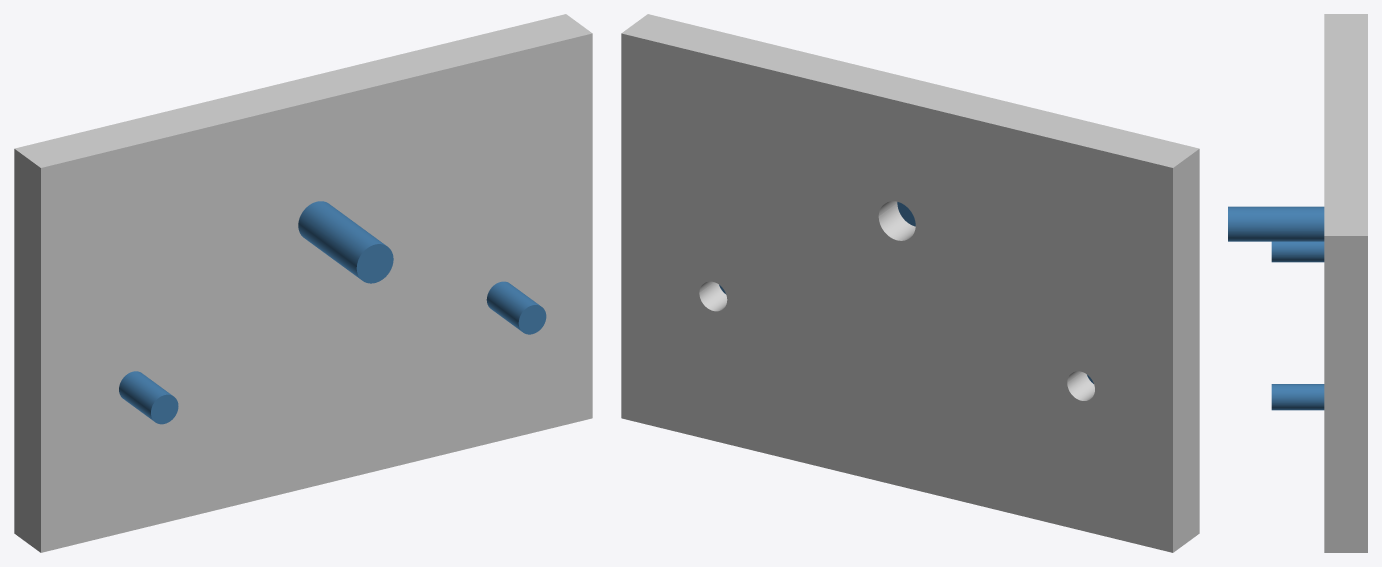
Rendered from .fixture.step.glb.
The picture shows the model from 3 angles, left to right: view 1: azimuth 30°, elevation 25°; view 2: azimuth 150°, elevation 25°; view 3: azimuth 270°, elevation 25°; orthographic projection. The views are drawn at different scales.
Visible parts, largest first — view 1: o1.1, o1.4, o1.3, o1.2; view 2: o1.1; view 3: o1.1, o1.4, o1.3, o1.2.
Part boxes in pixels (x1,y1,x2,y2): o1.1: [14, 14, 592, 552]; o1.4: [298, 201, 393, 283]; o1.3: [486, 281, 546, 334]; o1.2: [119, 371, 178, 424]; o1.1: [621, 14, 1199, 552]; o1.1: [1324, 14, 1367, 552]; o1.4: [1228, 206, 1324, 241]; o1.3: [1271, 384, 1324, 410]; o1.2: [1271, 241, 1324, 262].
Bounding box in the file's own units: 0.12 × 0.08 × 0.032.
